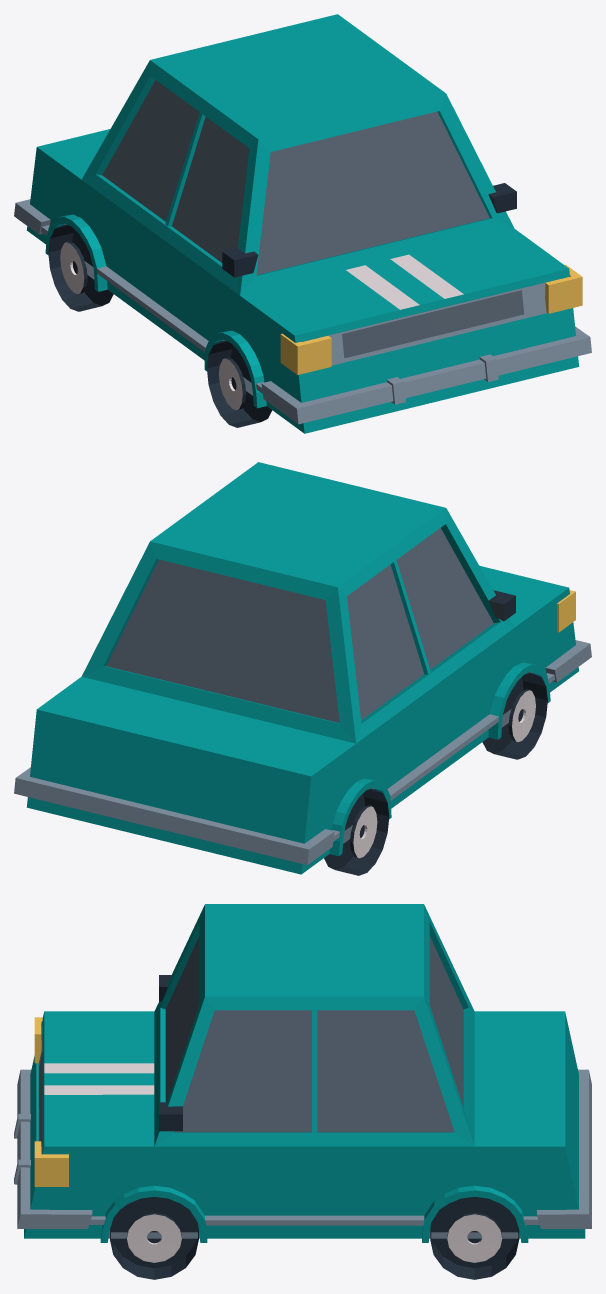
The model's file is car7.fbx.
3 renders of one model, top to bottom at view 1: azimuth 30°, elevation 25°; view 2: azimuth 150°, elevation 25°; view 3: azimuth 270°, elevation 25°, orthographic.
Parts seen in each view (by area): view 1: purple.015; view 2: purple.015; view 3: purple.015.
Boxes of the visible parts, x1=… form: purple.015: x1=14, y1=14, x2=591, y2=433; purple.015: x1=14, y1=462, x2=591, y2=875; purple.015: x1=14, y1=904, x2=591, y2=1279.
Size of the model in its own units: 216 by 177 by 361.
